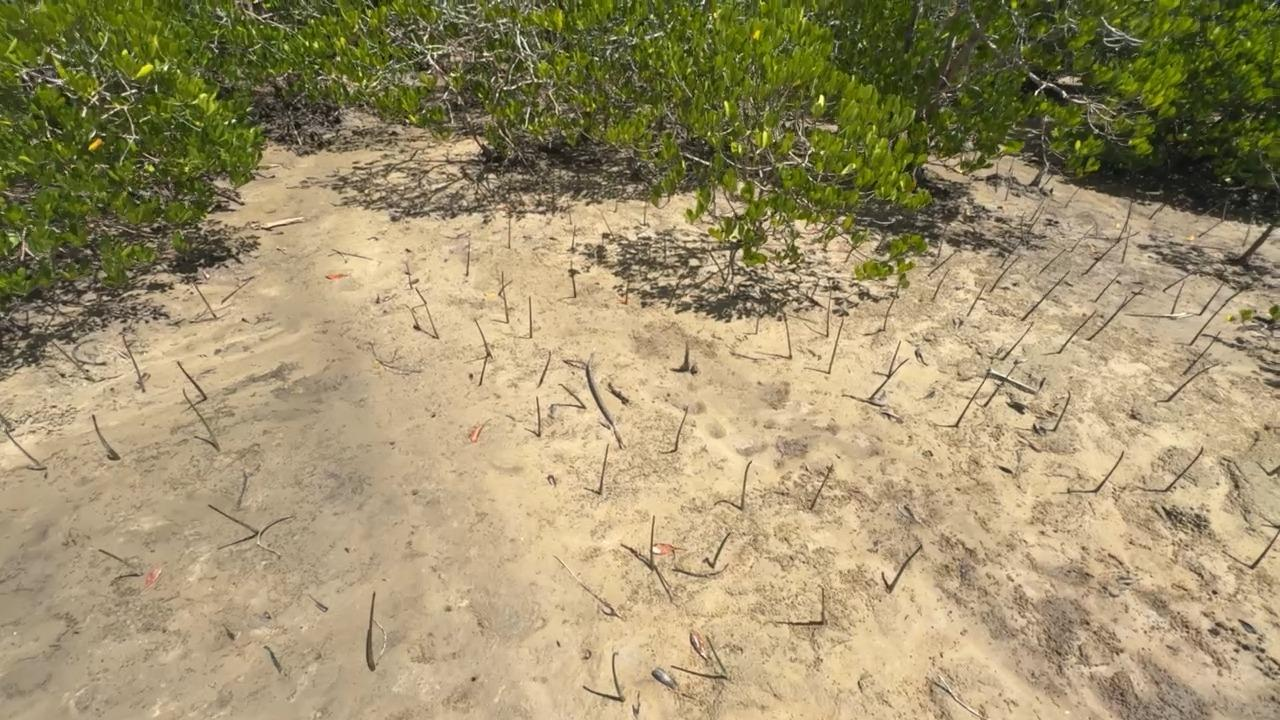Tree: (1021, 270, 1070, 321), (182, 388, 219, 450), (1166, 362, 1221, 402), (1086, 296, 1128, 341), (1163, 446, 1204, 491), (50, 340, 94, 381), (955, 376, 988, 428), (1058, 309, 1096, 354), (869, 357, 909, 399), (1183, 331, 1221, 375), (888, 544, 922, 593), (883, 272, 910, 332), (1189, 303, 1226, 346), (4, 427, 43, 466), (983, 363, 1017, 407), (208, 504, 258, 533), (92, 415, 123, 459), (1001, 321, 1034, 361), (122, 335, 145, 391), (1094, 451, 1124, 492), (1085, 239, 1120, 274), (1250, 529, 1280, 569), (809, 463, 834, 510), (98, 548, 141, 575), (177, 361, 207, 398), (989, 257, 1018, 292), (1193, 197, 1231, 222), (844, 226, 869, 263), (828, 317, 844, 374), (365, 590, 376, 671), (193, 281, 216, 318), (1199, 281, 1224, 315), (704, 635, 726, 673), (927, 249, 957, 276), (1094, 273, 1121, 302), (1053, 390, 1071, 431), (1071, 224, 1097, 252), (611, 651, 625, 701), (712, 532, 731, 568), (1039, 249, 1066, 274), (558, 384, 586, 408), (474, 317, 491, 356), (1162, 272, 1193, 293), (967, 283, 986, 316), (674, 407, 688, 451), (999, 241, 1021, 268), (932, 268, 950, 300), (1117, 200, 1132, 238), (740, 461, 751, 510), (262, 645, 281, 673), (599, 443, 609, 495), (424, 304, 439, 338), (1170, 280, 1185, 314), (888, 340, 901, 377), (401, 304, 420, 329), (1027, 207, 1045, 233), (1198, 220, 1225, 237), (1225, 284, 1249, 303), (1120, 289, 1144, 308), (1121, 225, 1132, 263), (501, 271, 509, 323), (328, 252, 374, 261), (936, 225, 948, 259), (783, 313, 792, 358), (539, 351, 551, 384), (1064, 186, 1081, 208), (1029, 198, 1045, 221), (307, 593, 328, 610), (649, 515, 655, 571), (1148, 201, 1165, 220), (1004, 168, 1013, 201), (826, 289, 832, 337), (570, 260, 577, 297), (221, 624, 235, 641), (1241, 225, 1252, 246), (332, 249, 347, 263), (536, 396, 541, 438), (415, 287, 427, 304), (406, 262, 413, 289), (465, 239, 470, 276), (820, 588, 825, 625), (528, 296, 532, 339), (684, 341, 689, 370), (1268, 465, 1280, 476), (1043, 173, 1053, 186), (567, 199, 572, 224), (1249, 209, 1257, 224), (1020, 213, 1024, 242), (1008, 156, 1015, 172), (755, 312, 760, 334), (625, 279, 629, 305), (572, 225, 576, 250), (508, 216, 511, 248), (995, 162, 998, 193), (644, 201, 647, 226), (615, 199, 617, 213)
